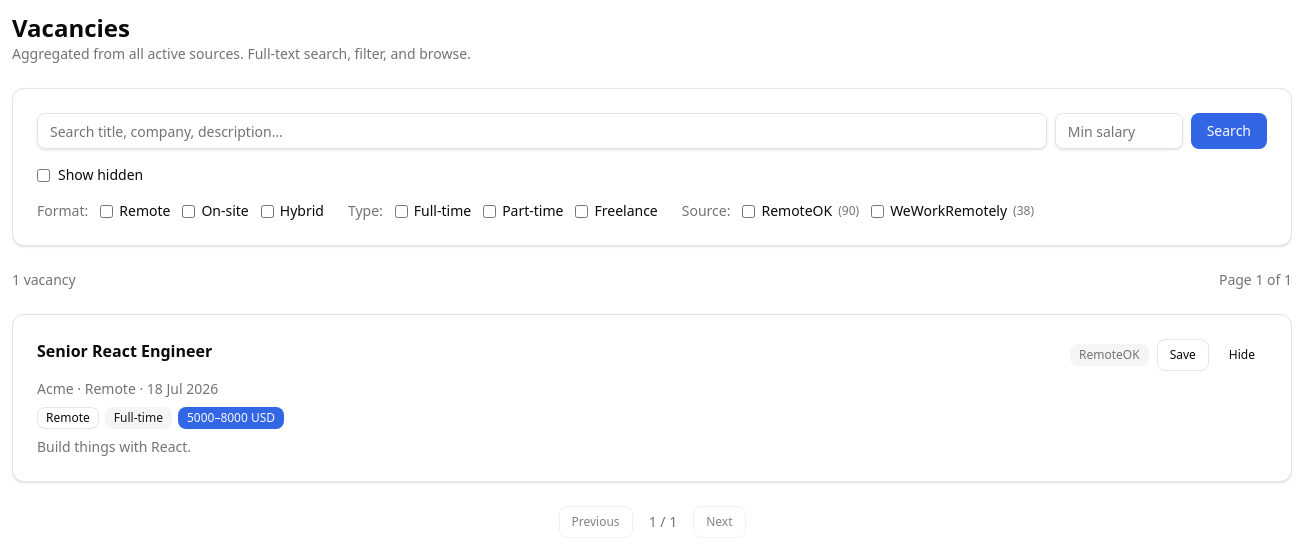
FeedBrowser › saves a vacancy to the board and marks it tracked
This screenshot has width=1304, height=555.
Click the button "Save": click(1183, 355) [1157, 339, 1209, 371]
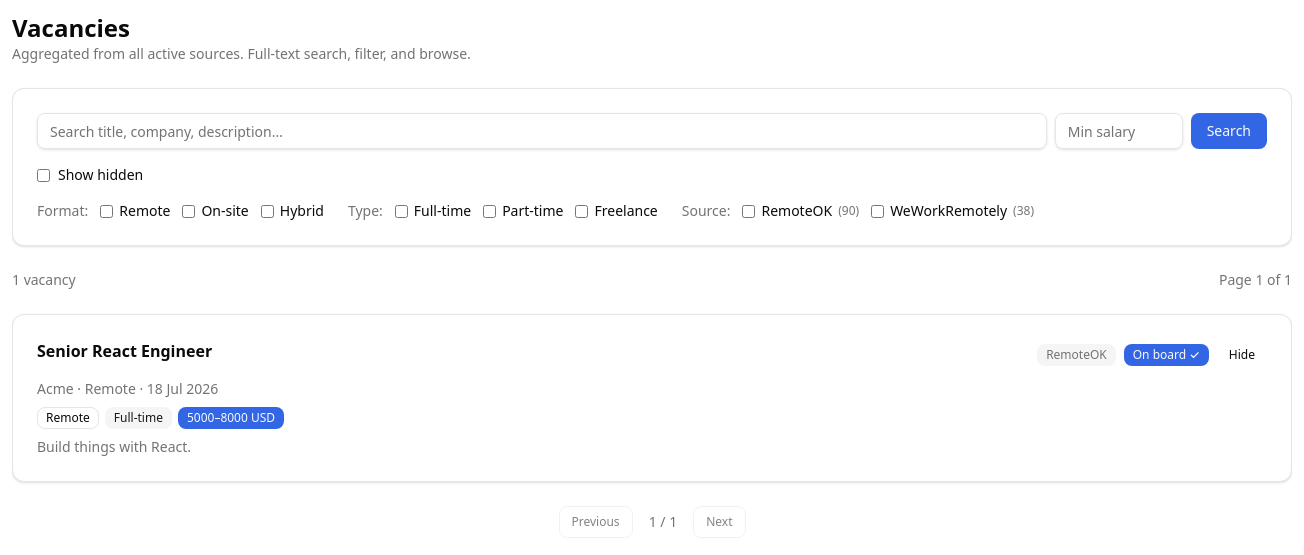
Now the text "On board ✓" is shown, box [1124, 344, 1209, 366]
